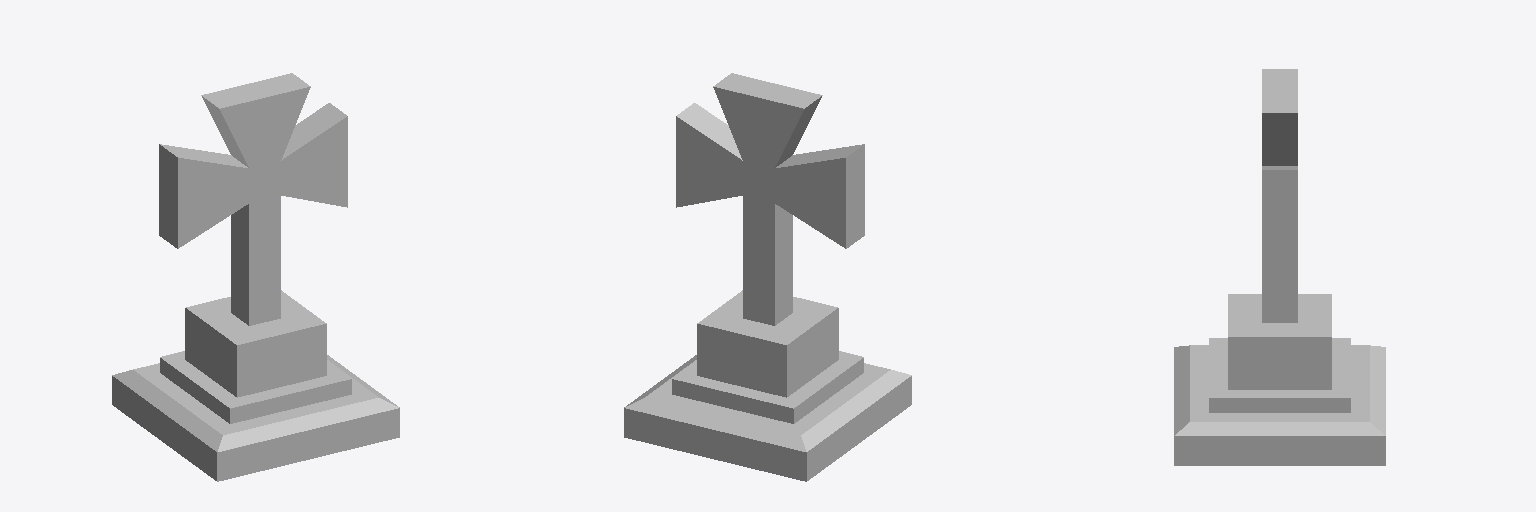
The model's file is tomb3.obj.
The picture shows the model from 3 angles: view 1: azimuth 30°, elevation 25°; view 2: azimuth 150°, elevation 25°; view 3: azimuth 270°, elevation 25°; orthographic projection.
Visible parts, largest first — view 1: Cube.007_Cube.016; view 2: Cube.007_Cube.016; view 3: Cube.007_Cube.016.
Part boxes in pixels (left/top/right/bottom): Cube.007_Cube.016: left=112, top=73, right=399, bottom=481; Cube.007_Cube.016: left=624, top=73, right=911, bottom=481; Cube.007_Cube.016: left=1174, top=69, right=1385, bottom=465.
Size of the model in its own units: 1.34 by 2.31 by 1.34.